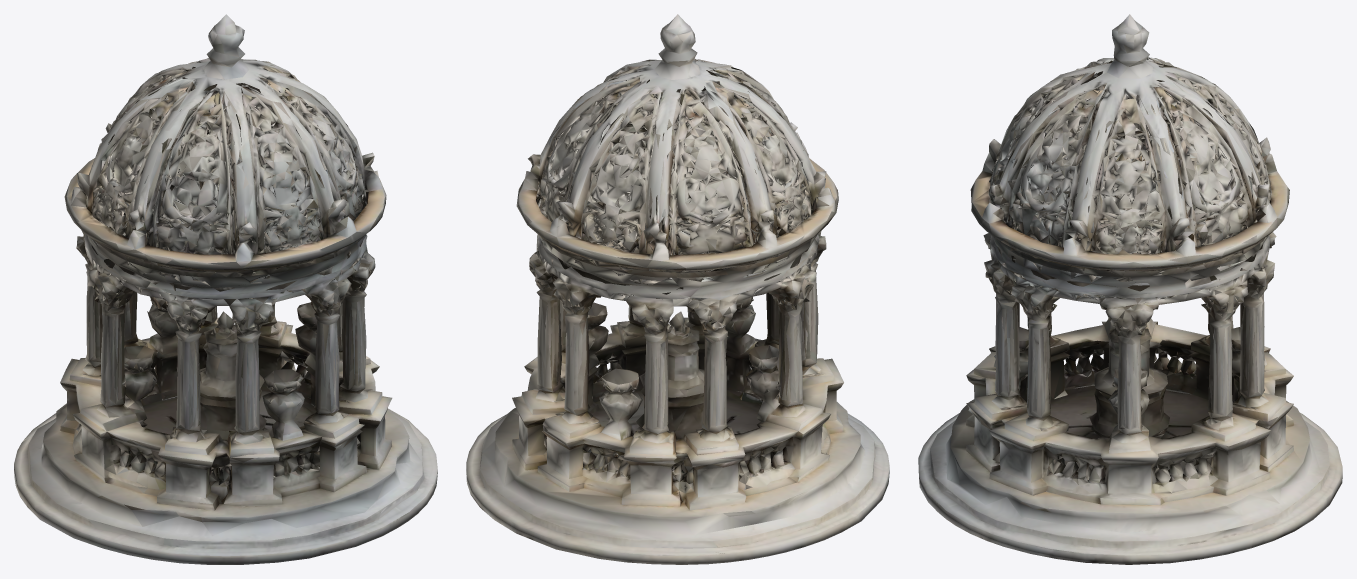
The model's file is Marble_Pavilion.glb.
3 views of the same model, side by side, from view 1: azimuth 30°, elevation 25°; view 2: azimuth 150°, elevation 25°; view 3: azimuth 270°, elevation 25° (orthographic).
Parts seen in each view (by area): view 1: Marble_Pavilion; view 2: Marble_Pavilion; view 3: Marble_Pavilion.
Boxes of the visible parts, box(x1,y1,x2,y2) form: Marble_Pavilion: box(14, 14, 437, 564); Marble_Pavilion: box(466, 14, 889, 564); Marble_Pavilion: box(918, 14, 1342, 564).
Bounding box in the file's own units: 1.6 × 1.91 × 1.6.
1 material, 1 textured.
